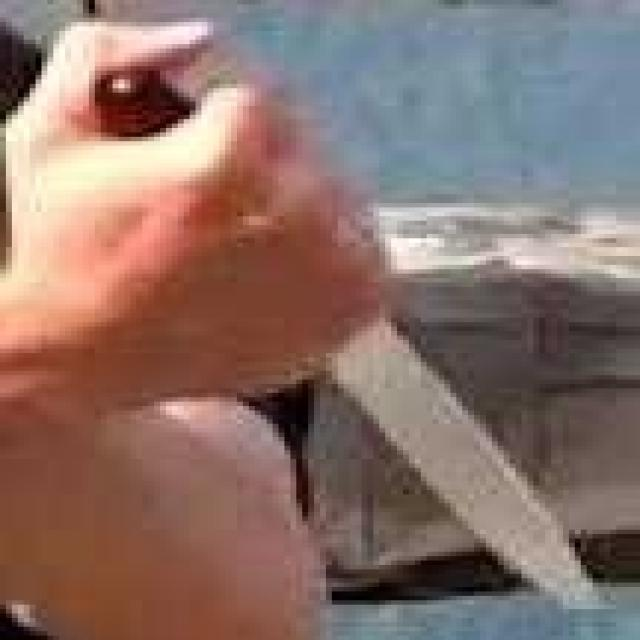knife: (80, 58, 624, 628)
